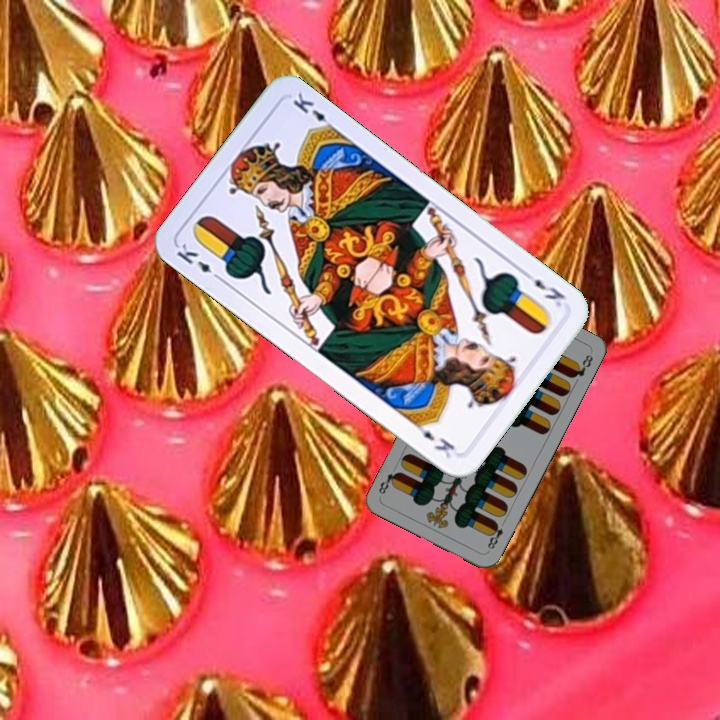E8: (483, 517, 508, 554)
EK: (172, 239, 225, 284), (519, 267, 568, 310)
